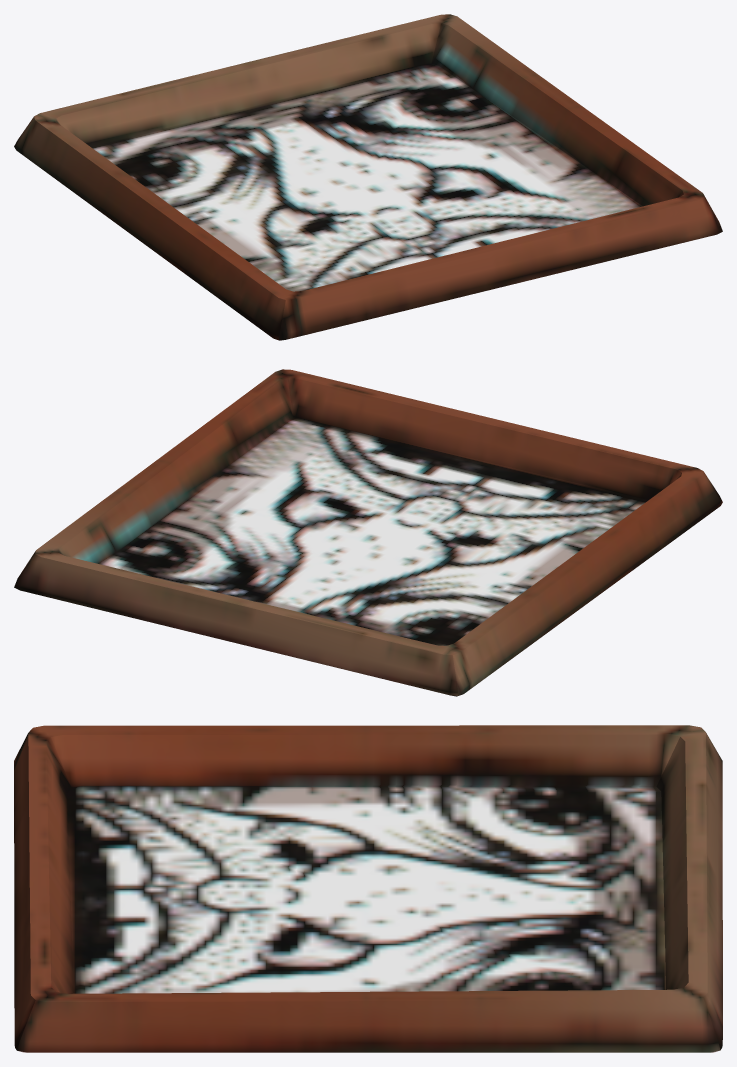
File: Painting1.fbx
3 renders of one model, top to bottom at view 1: azimuth 30°, elevation 25°; view 2: azimuth 150°, elevation 25°; view 3: azimuth 270°, elevation 25°, orthographic. The views are drawn at different scales.
Visible parts, largest first — view 1: Painting1; view 2: Painting1; view 3: Painting1.
Boxes of the visible parts, x1,y1,x2,y2 form: Painting1: (14,14,722,340); Painting1: (14,369,722,696); Painting1: (14,725,722,1052).
Size of the model in its own units: 19.65 by 1.5 by 20.26.
